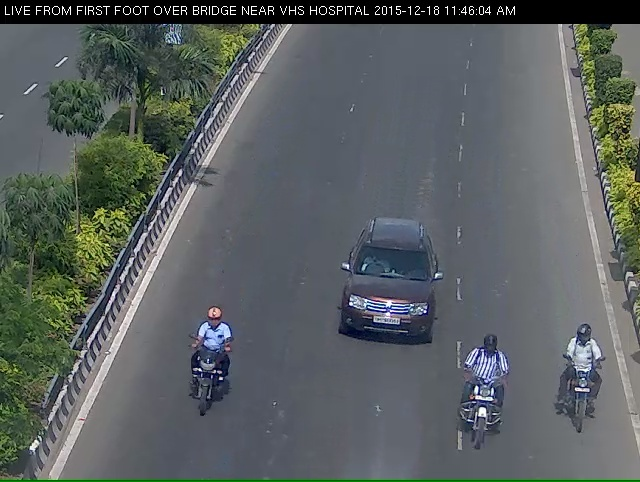Car: (326, 228, 448, 371)
Person: (456, 347, 519, 479), (177, 337, 226, 452), (573, 339, 600, 458)
